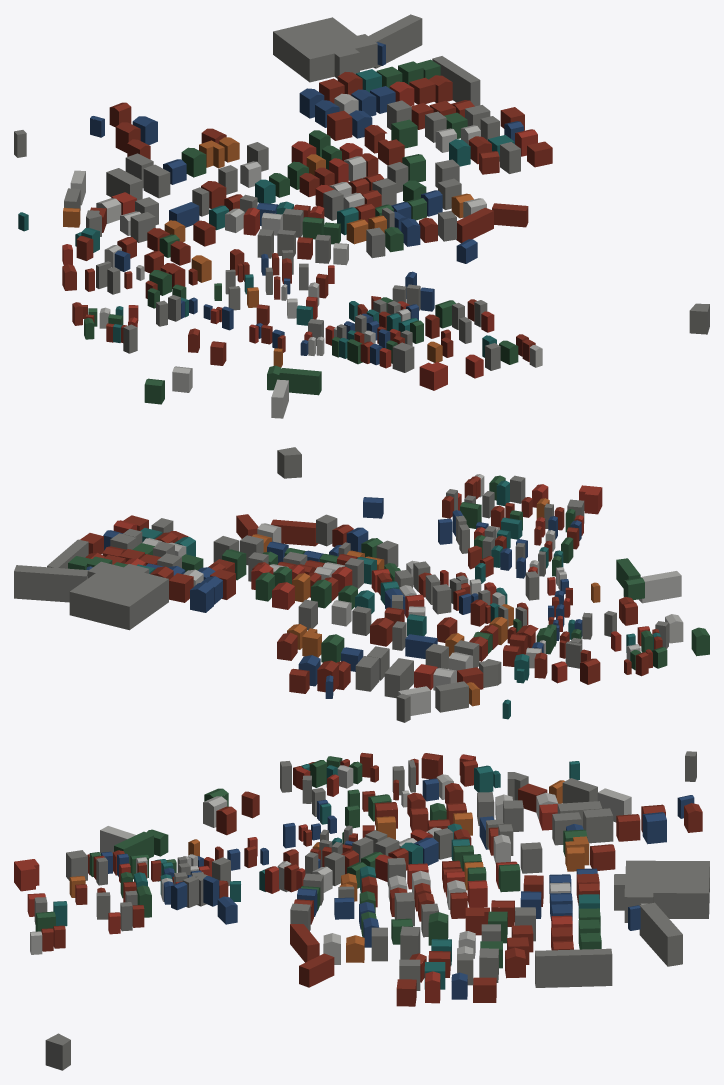
The model's file is near-16-54716-29744.5634e1a6.glb.
3 renders of one model, top to bottom at view 1: azimuth 30°, elevation 25°; view 2: azimuth 150°, elevation 25°; view 3: azimuth 270°, elevation 25°, orthographic. The views are drawn at different scales.
Bounding box in the file's own units: 556 × 130 × 598.
